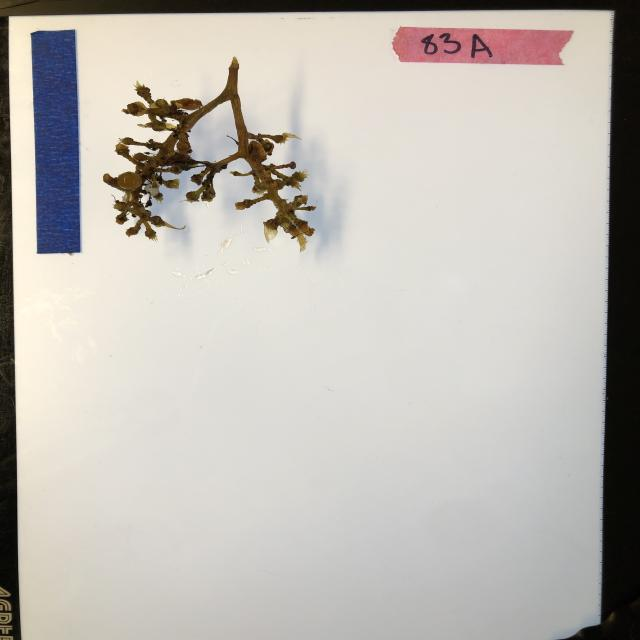index: (390, 24, 575, 66)
measure_label: (28, 28, 83, 256)
rachis_cluster: (101, 54, 327, 251)
